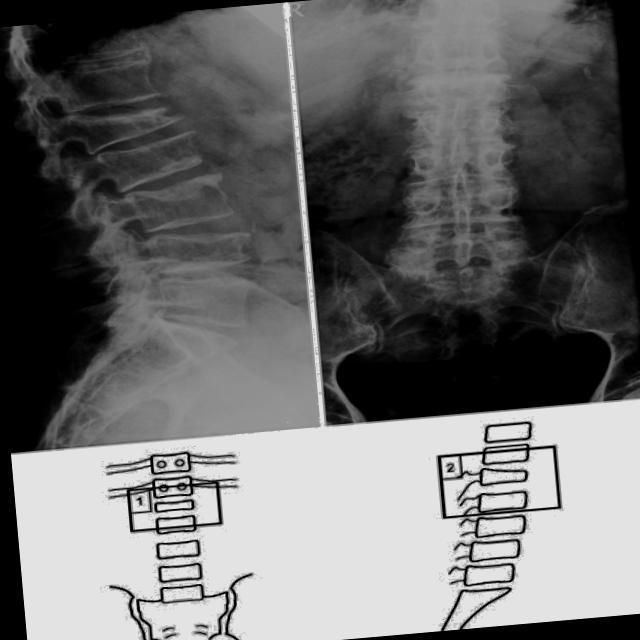Impact Fracture: (72, 104, 182, 146)
